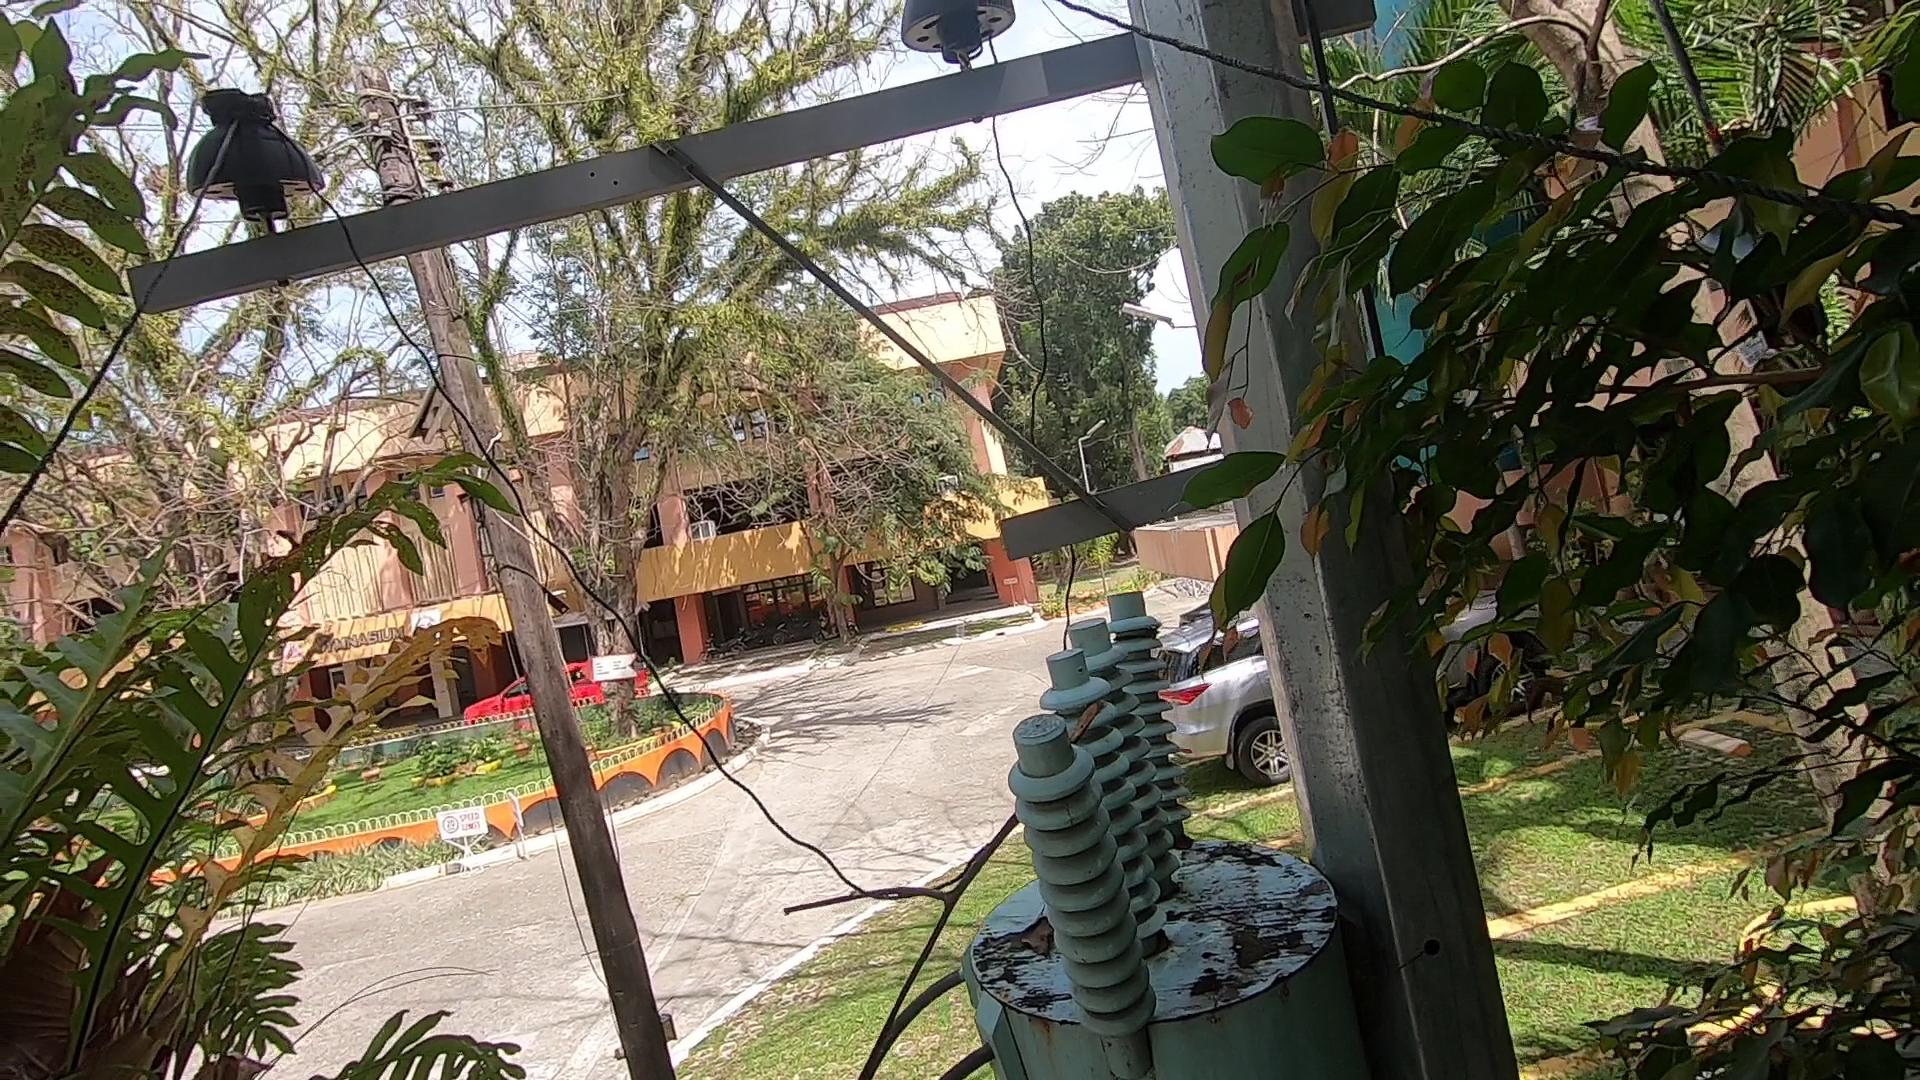leaf: (1017, 909, 1062, 959)
tree branch: (775, 705, 1234, 1080)
